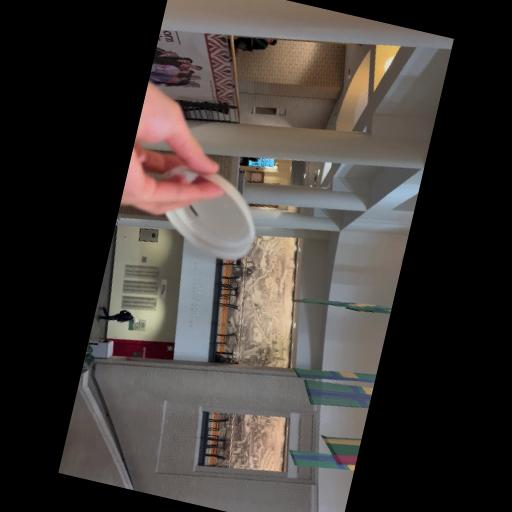lp_cup_lids: (152, 161, 269, 264)
